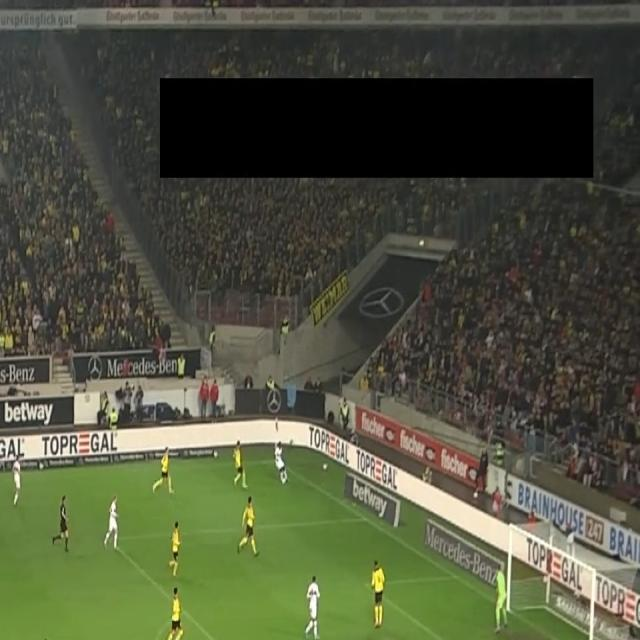ball: (280, 475, 286, 486)
